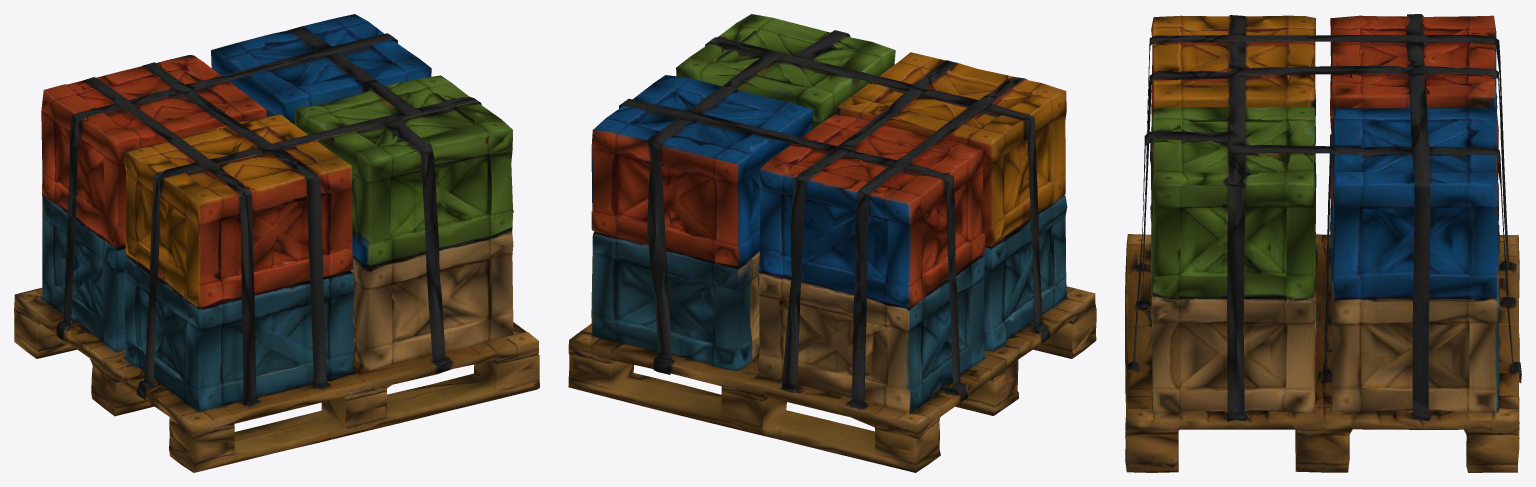
Rendered from veh-crateload.glb.
The picture shows the model from 3 angles, left to right: view 1: azimuth 30°, elevation 25°; view 2: azimuth 150°, elevation 25°; view 3: azimuth 270°, elevation 25°; orthographic projection. The views are drawn at different scales.
Parts seen in each view (by area): view 1: tripo_node_ce764e9e-eacb-4ab6-9d3a-631ffaeaf2e3; view 2: tripo_node_ce764e9e-eacb-4ab6-9d3a-631ffaeaf2e3; view 3: tripo_node_ce764e9e-eacb-4ab6-9d3a-631ffaeaf2e3.
Boxes of the visible parts, left/top/right/bottom form: tripo_node_ce764e9e-eacb-4ab6-9d3a-631ffaeaf2e3: left=14, top=14, right=539, bottom=472; tripo_node_ce764e9e-eacb-4ab6-9d3a-631ffaeaf2e3: left=568, top=14, right=1096, bottom=472; tripo_node_ce764e9e-eacb-4ab6-9d3a-631ffaeaf2e3: left=1125, top=14, right=1521, bottom=472.
Size of the model in its own units: 0.9807 by 0.6916 by 0.8744.
Materials: 1 (1 with a texture image).
